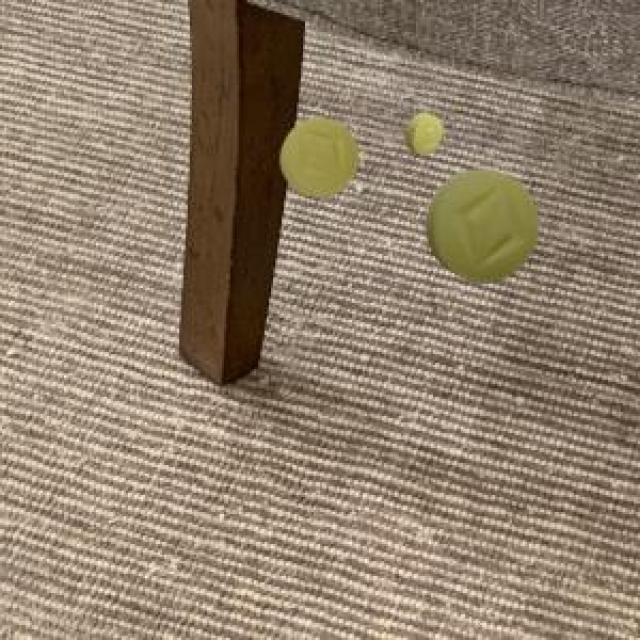Decolgen: (421, 162, 553, 294), (266, 103, 374, 204), (403, 89, 455, 162)
